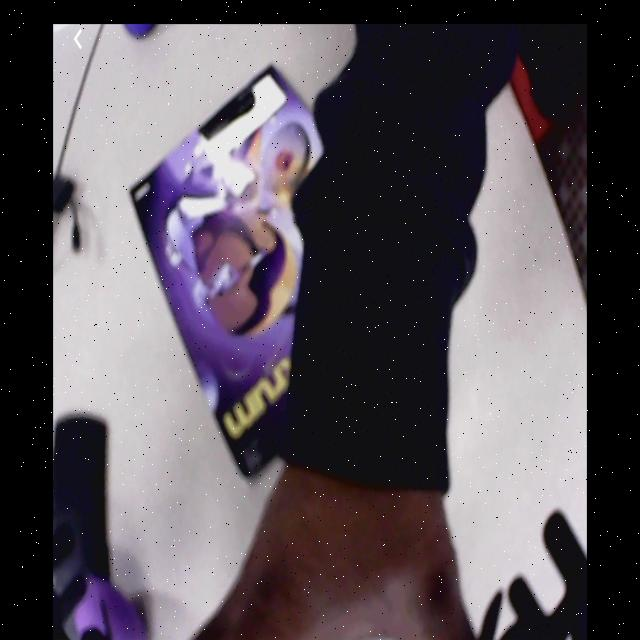ball: (73, 579, 146, 640), (126, 24, 156, 40)
